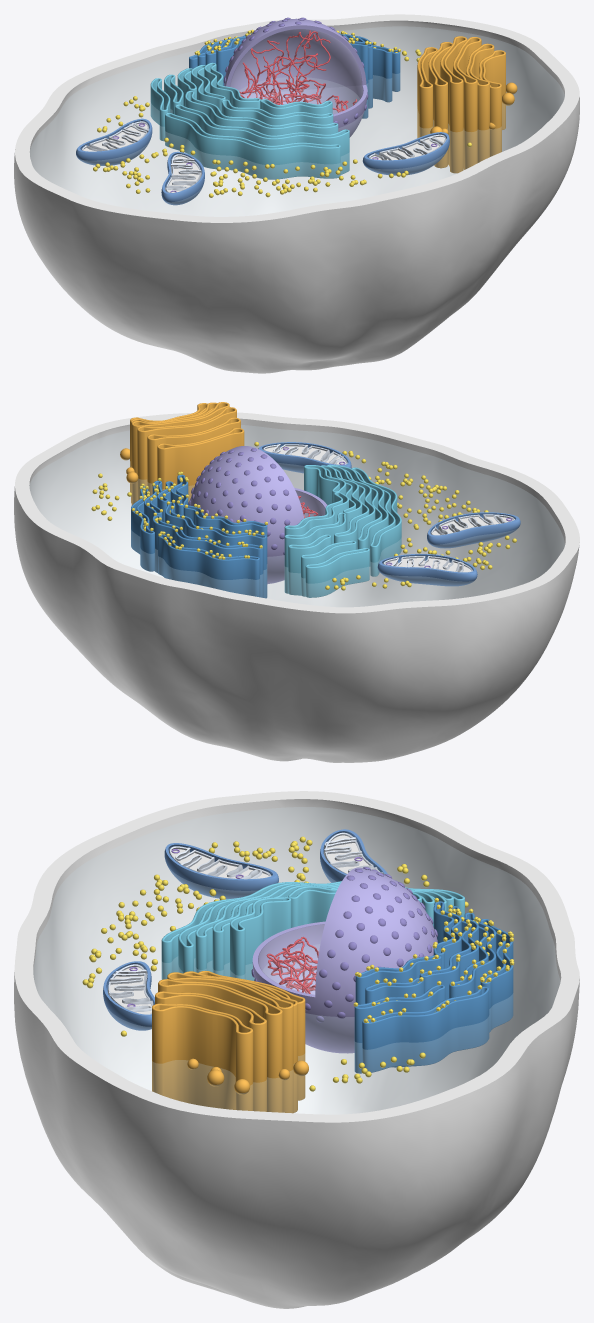
The picture shows the model from 3 angles, top to bottom: view 1: azimuth 30°, elevation 25°; view 2: azimuth 150°, elevation 25°; view 3: azimuth 270°, elevation 25°; orthographic projection. The views are drawn at different scales.
Visible parts, largest first — view 1: Cellemembran.001, Cytoplasma.001, Glat ER.001, Golgiapparat.001, Kernemembran.001, Nukleoplasma.001, Ru ER.001, Kromatin (DNA) (mesh), Frie ribosomer.001, Mitokondrie 3 ydre membran, Mitokondrie 2 ydre membran, Mitokondrie 1 ydre membran (+4 smaller); view 2: Cellemembran.001, Cytoplasma.001, Glat ER.001, Ru ER.001, Kernemembran.001, Golgiapparat.001, Frie ribosomer.001, Mitokondrie 2 ydre membran, Mitokondrie 1 ydre membran, Kerneporer.001, Ribosomer på ru ER, Mitokondrie 3 ydre membran (+4 smaller); view 3: Cellemembran.001, Cytoplasma.001, Golgiapparat.001, Ru ER.001, Kernemembran.001, Glat ER.001, Frie ribosomer.001, Nukleoplasma.001, Mitokondrie 1 ydre membran, Kerneporer.001, Ribosomer på ru ER, Kromatin (DNA) (mesh) (+6 smaller).
Boxes of the visible parts, bbox=[...] form: Cellemembran.001: bbox=[14, 14, 579, 373]; Cytoplasma.001: bbox=[30, 27, 564, 216]; Glat ER.001: bbox=[150, 62, 349, 179]; Golgiapparat.001: bbox=[417, 36, 505, 173]; Kernemembran.001: bbox=[224, 18, 367, 137]; Nukleoplasma.001: bbox=[230, 29, 362, 113]; Ru ER.001: bbox=[189, 33, 400, 118]; Kromatin (DNA) (mesh): bbox=[239, 30, 356, 112]; Frie ribosomer.001: bbox=[93, 49, 471, 197]; Mitokondrie 3 ydre membran: bbox=[362, 132, 449, 175]; Mitokondrie 2 ydre membran: bbox=[76, 118, 152, 165]; Mitokondrie 1 ydre membran: bbox=[161, 151, 204, 205]; Cellemembran.001: bbox=[14, 412, 579, 762]; Cytoplasma.001: bbox=[30, 425, 564, 606]; Glat ER.001: bbox=[284, 464, 401, 597]; Ru ER.001: bbox=[131, 474, 267, 598]; Kernemembran.001: bbox=[190, 446, 327, 584]; Golgiapparat.001: bbox=[130, 402, 244, 505]; Frie ribosomer.001: bbox=[91, 442, 516, 590]; Mitokondrie 2 ydre membran: bbox=[377, 553, 477, 586]; Mitokondrie 1 ydre membran: bbox=[427, 512, 520, 548]; Kerneporer.001: bbox=[188, 448, 298, 554]; Ribosomer på ru ER: bbox=[131, 471, 267, 559]; Mitokondrie 3 ydre membran: bbox=[258, 442, 351, 473]; Cellemembran.001: bbox=[14, 791, 579, 1308]; Cytoplasma.001: bbox=[34, 807, 559, 1113]; Golgiapparat.001: bbox=[152, 970, 305, 1113]; Ru ER.001: bbox=[354, 901, 513, 1073]; Kernemembran.001: bbox=[252, 867, 437, 1053]; Glat ER.001: bbox=[161, 881, 464, 980]; Frie ribosomer.001: bbox=[82, 836, 468, 1091]; Nukleoplasma.001: bbox=[259, 924, 324, 994]; Mitokondrie 1 ydre membran: bbox=[164, 843, 278, 899]; Kerneporer.001: bbox=[251, 867, 437, 1022]; Ribosomer på ru ER: bbox=[353, 898, 514, 1022]; Kromatin (DNA) (mesh): bbox=[266, 936, 318, 993].
Bounding box in the file's own units: 13.43 × 7.74 × 9.69.
